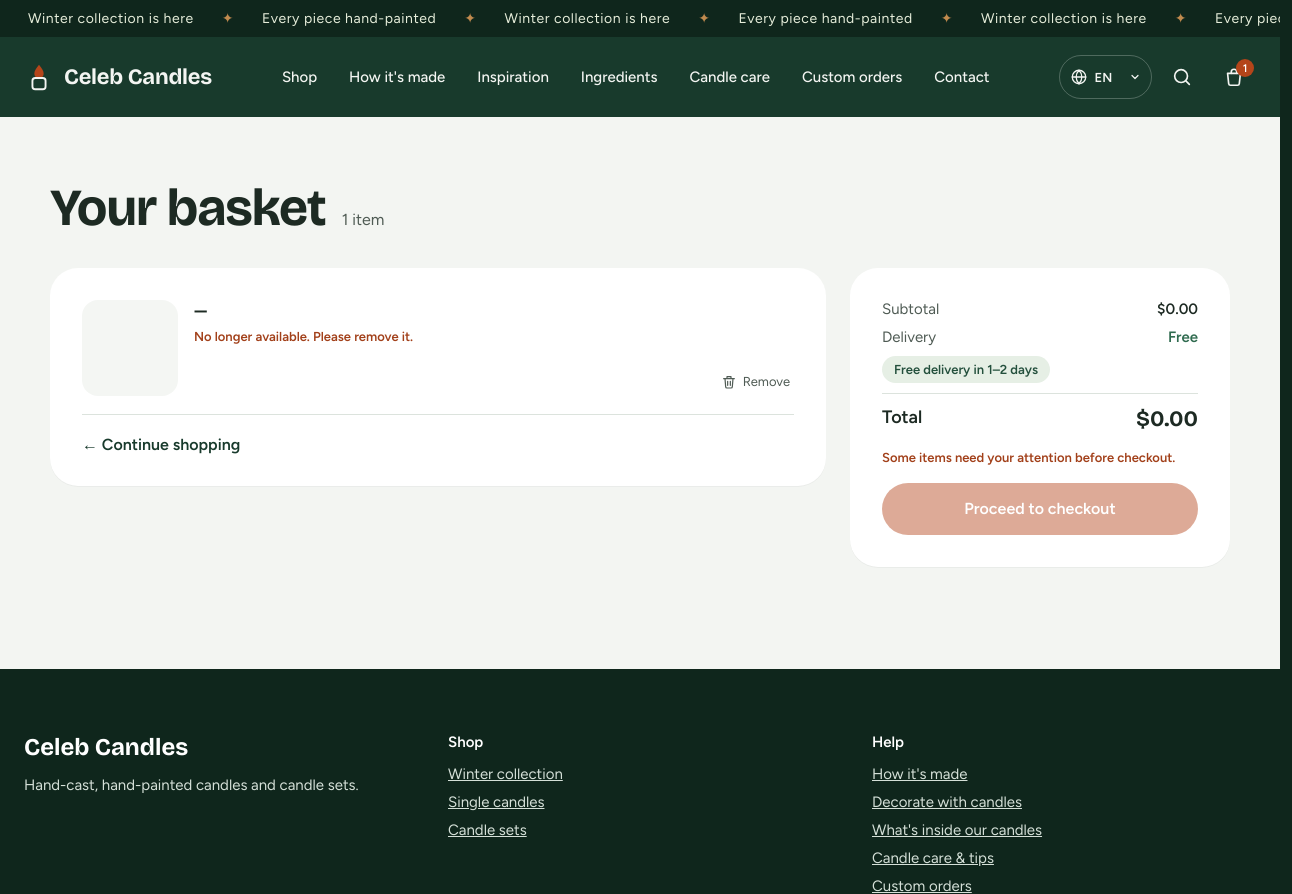
Test: Basket › marks products that are no longer sold
Expected: the text "No longer available. Please remove it." is shown, [194,329,413,344]
Click the button "Remove" at (755, 382), box [717,368,794,396]
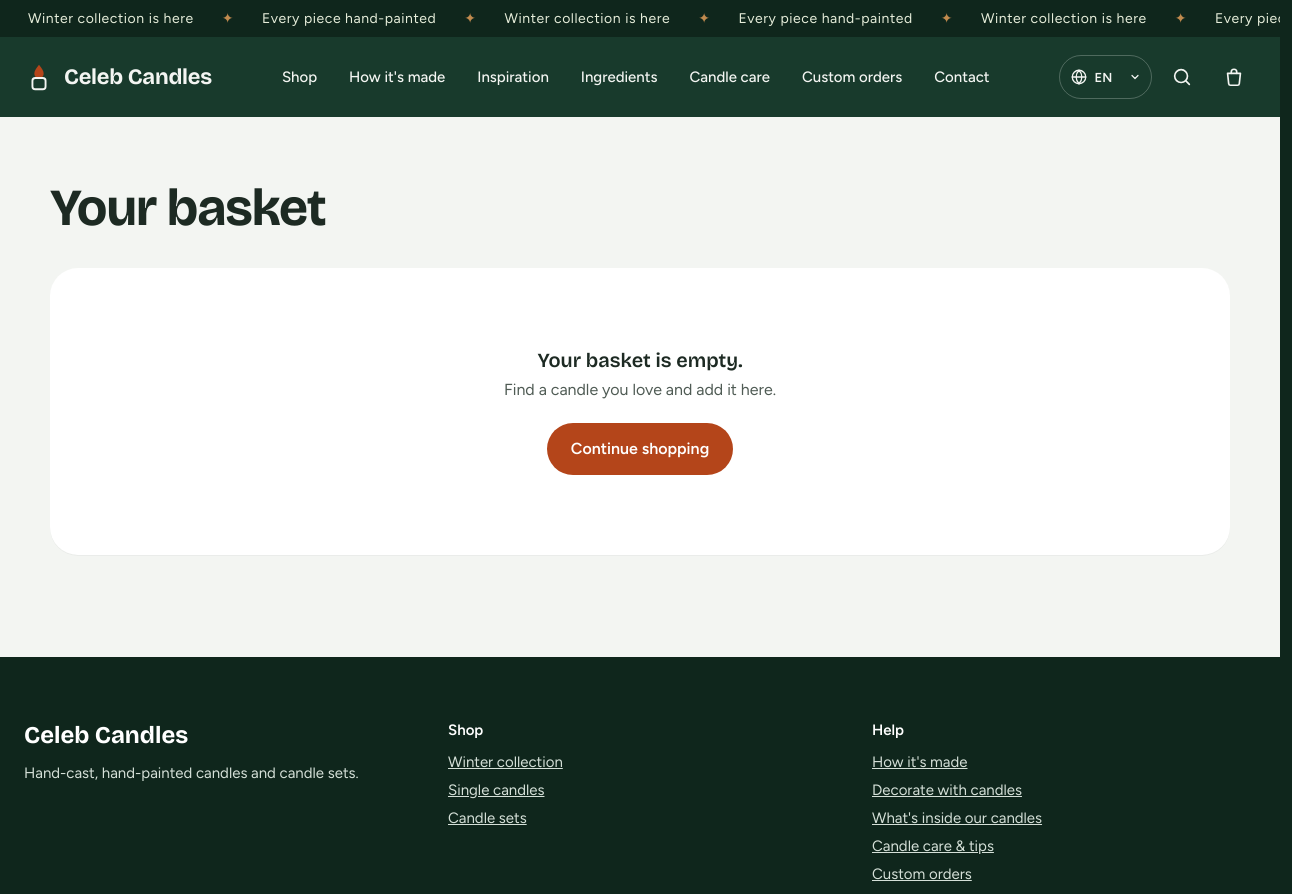
Result: the text "Your basket is empty." is shown at [538,348,742,372]
